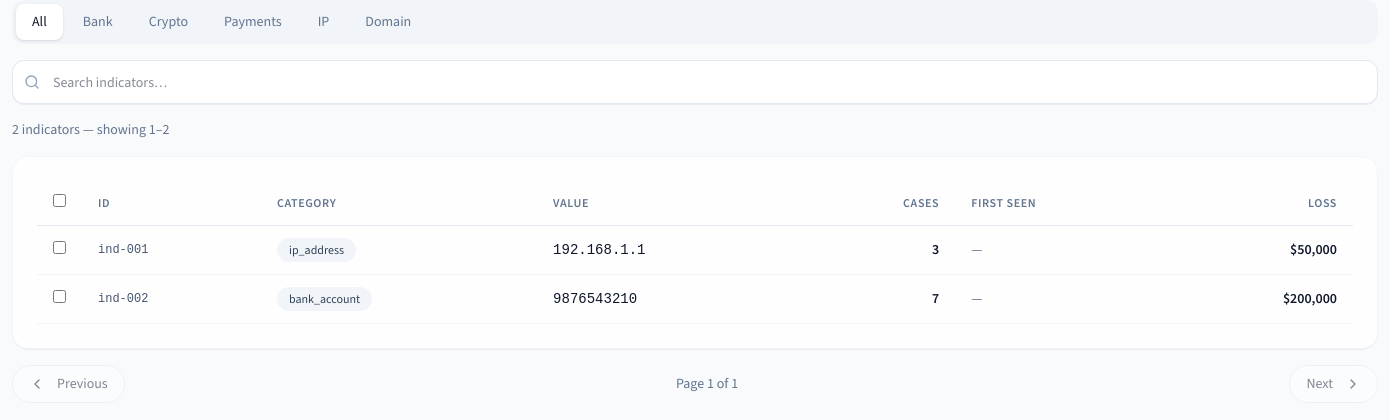
Test case: IndicatorRegistry › filters indicators client-side by search query
This screenshot has width=1390, height=420.
Expected: the text "192.168.1.1" is shown, 537,226 -> 807,274
Type "192.168" into the field with placeholder "Search indicators…". click: [695, 82]
box: 12,60 -> 1378,104
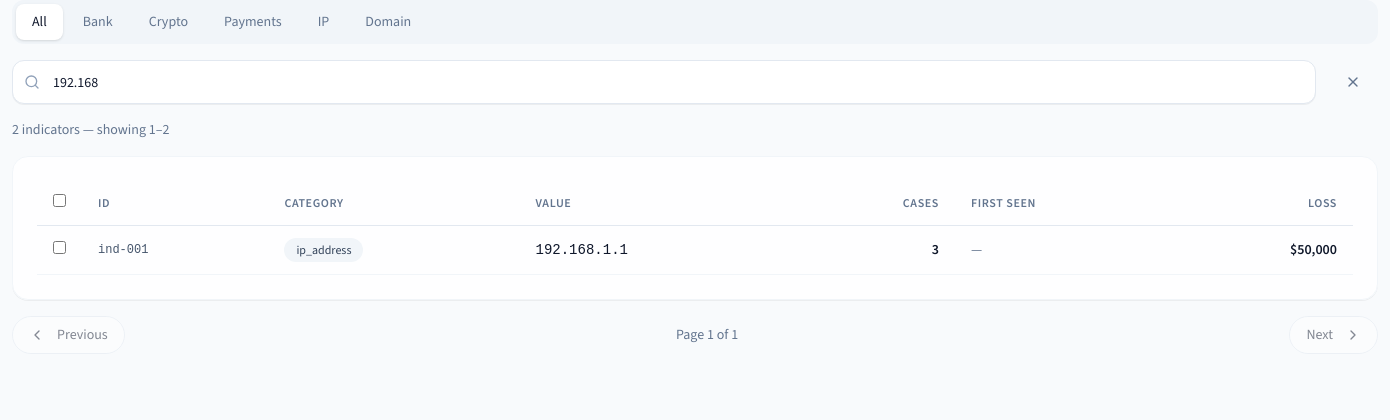
Expected: the text "192.168.1.1" is shown, 520,226 -> 801,274
Result: the text "9876543210" is gone
